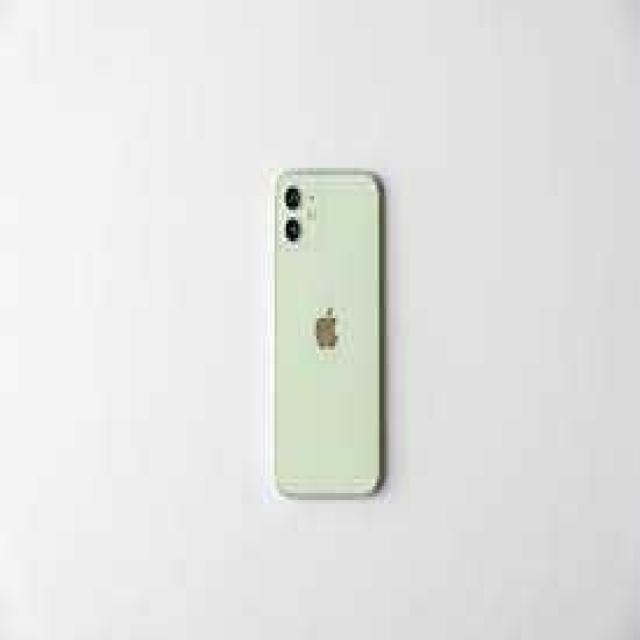Smartphone: (268, 165, 392, 511)
